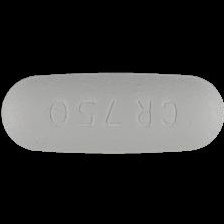52959-734: (0, 0, 224, 224)
